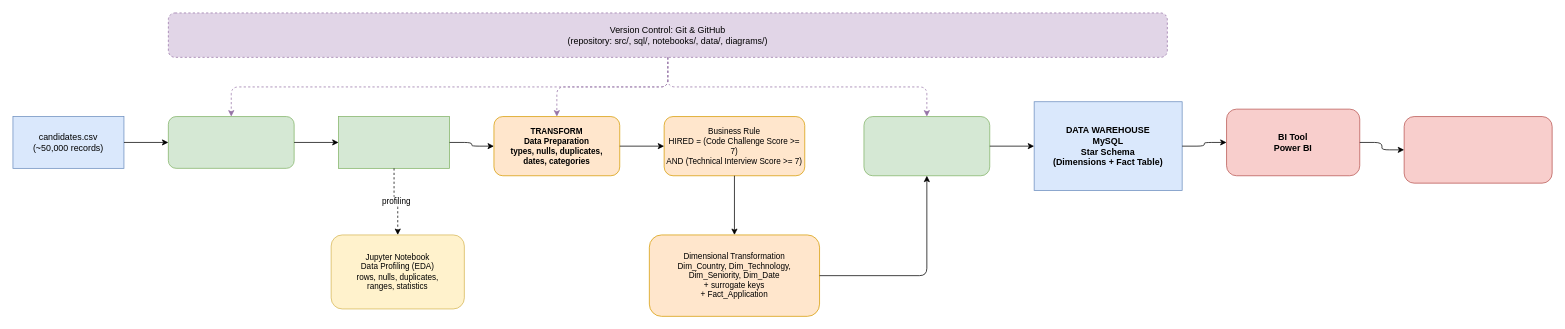
The diagram is 1565 pixels wide and 329 high, and some of its shapes have lost their labels. The box of each missing label's shape, as (x1, y1, x2, y2) in pixels:
Dashboards & KPIs Analytical outputs R1-R5: (1403, 116, 1552, 183)
EXTRACT Python + Pandas Reading and preserving the original file: (168, 116, 294, 168)
LOAD Python + SQL: (863, 116, 990, 176)
Raw DataFrame: (338, 116, 450, 168)
